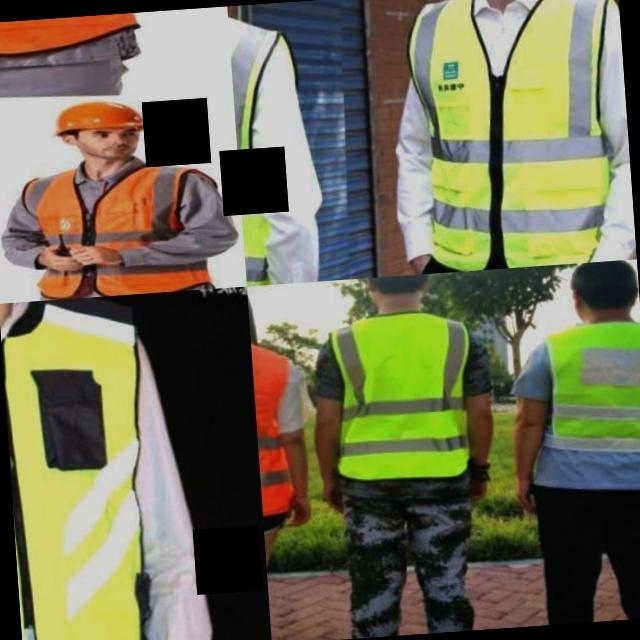vest: (0, 292, 178, 640), (395, 0, 620, 274), (306, 309, 484, 506), (22, 163, 195, 301), (530, 318, 640, 500), (250, 331, 303, 524)
